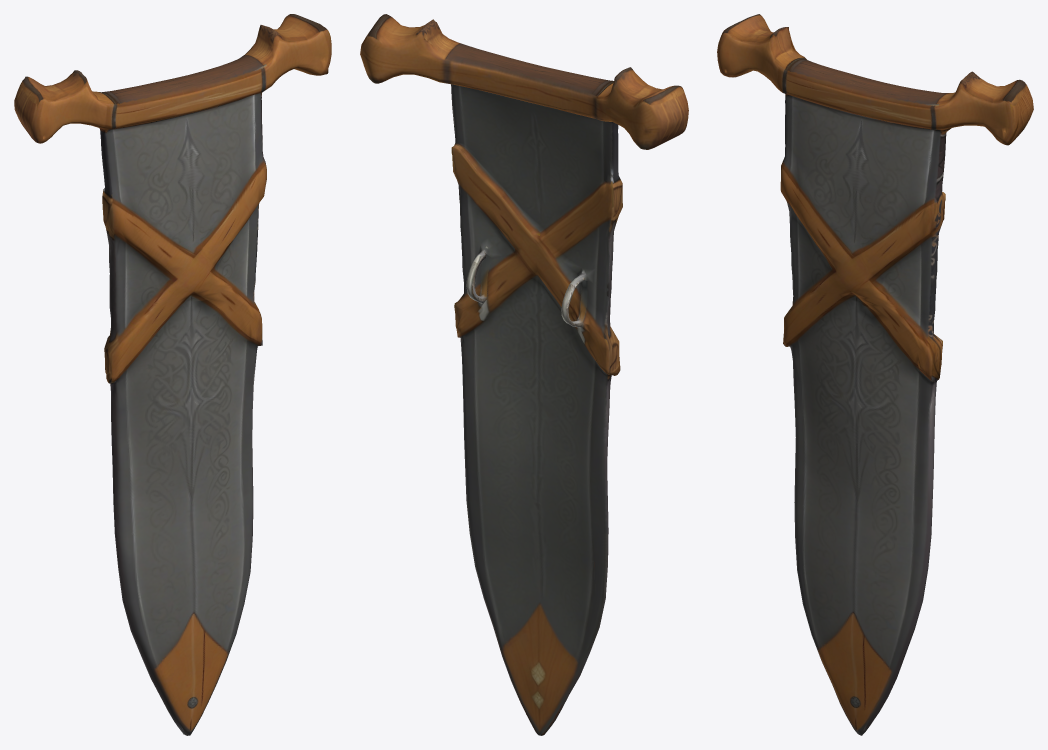
Rendered from Feline_Sword_0527103647_texture.fbx.
3 renders of one model, left to right at view 1: azimuth 30°, elevation 25°; view 2: azimuth 150°, elevation 25°; view 3: azimuth 330°, elevation 25°, orthographic. The views are drawn at different scales.
Visible parts, largest first — view 1: input; view 2: input; view 3: input.
Boxes of the visible parts, bbox=[...] form: input: bbox=[14, 14, 331, 735]; input: bbox=[360, 14, 688, 735]; input: bbox=[717, 14, 1033, 735].
Bounding box in the file's own units: 93.08 × 199 × 21.15.
1 material, 1 textured.
